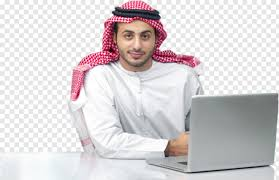middle_eastern_male: (110, 7, 156, 65)
